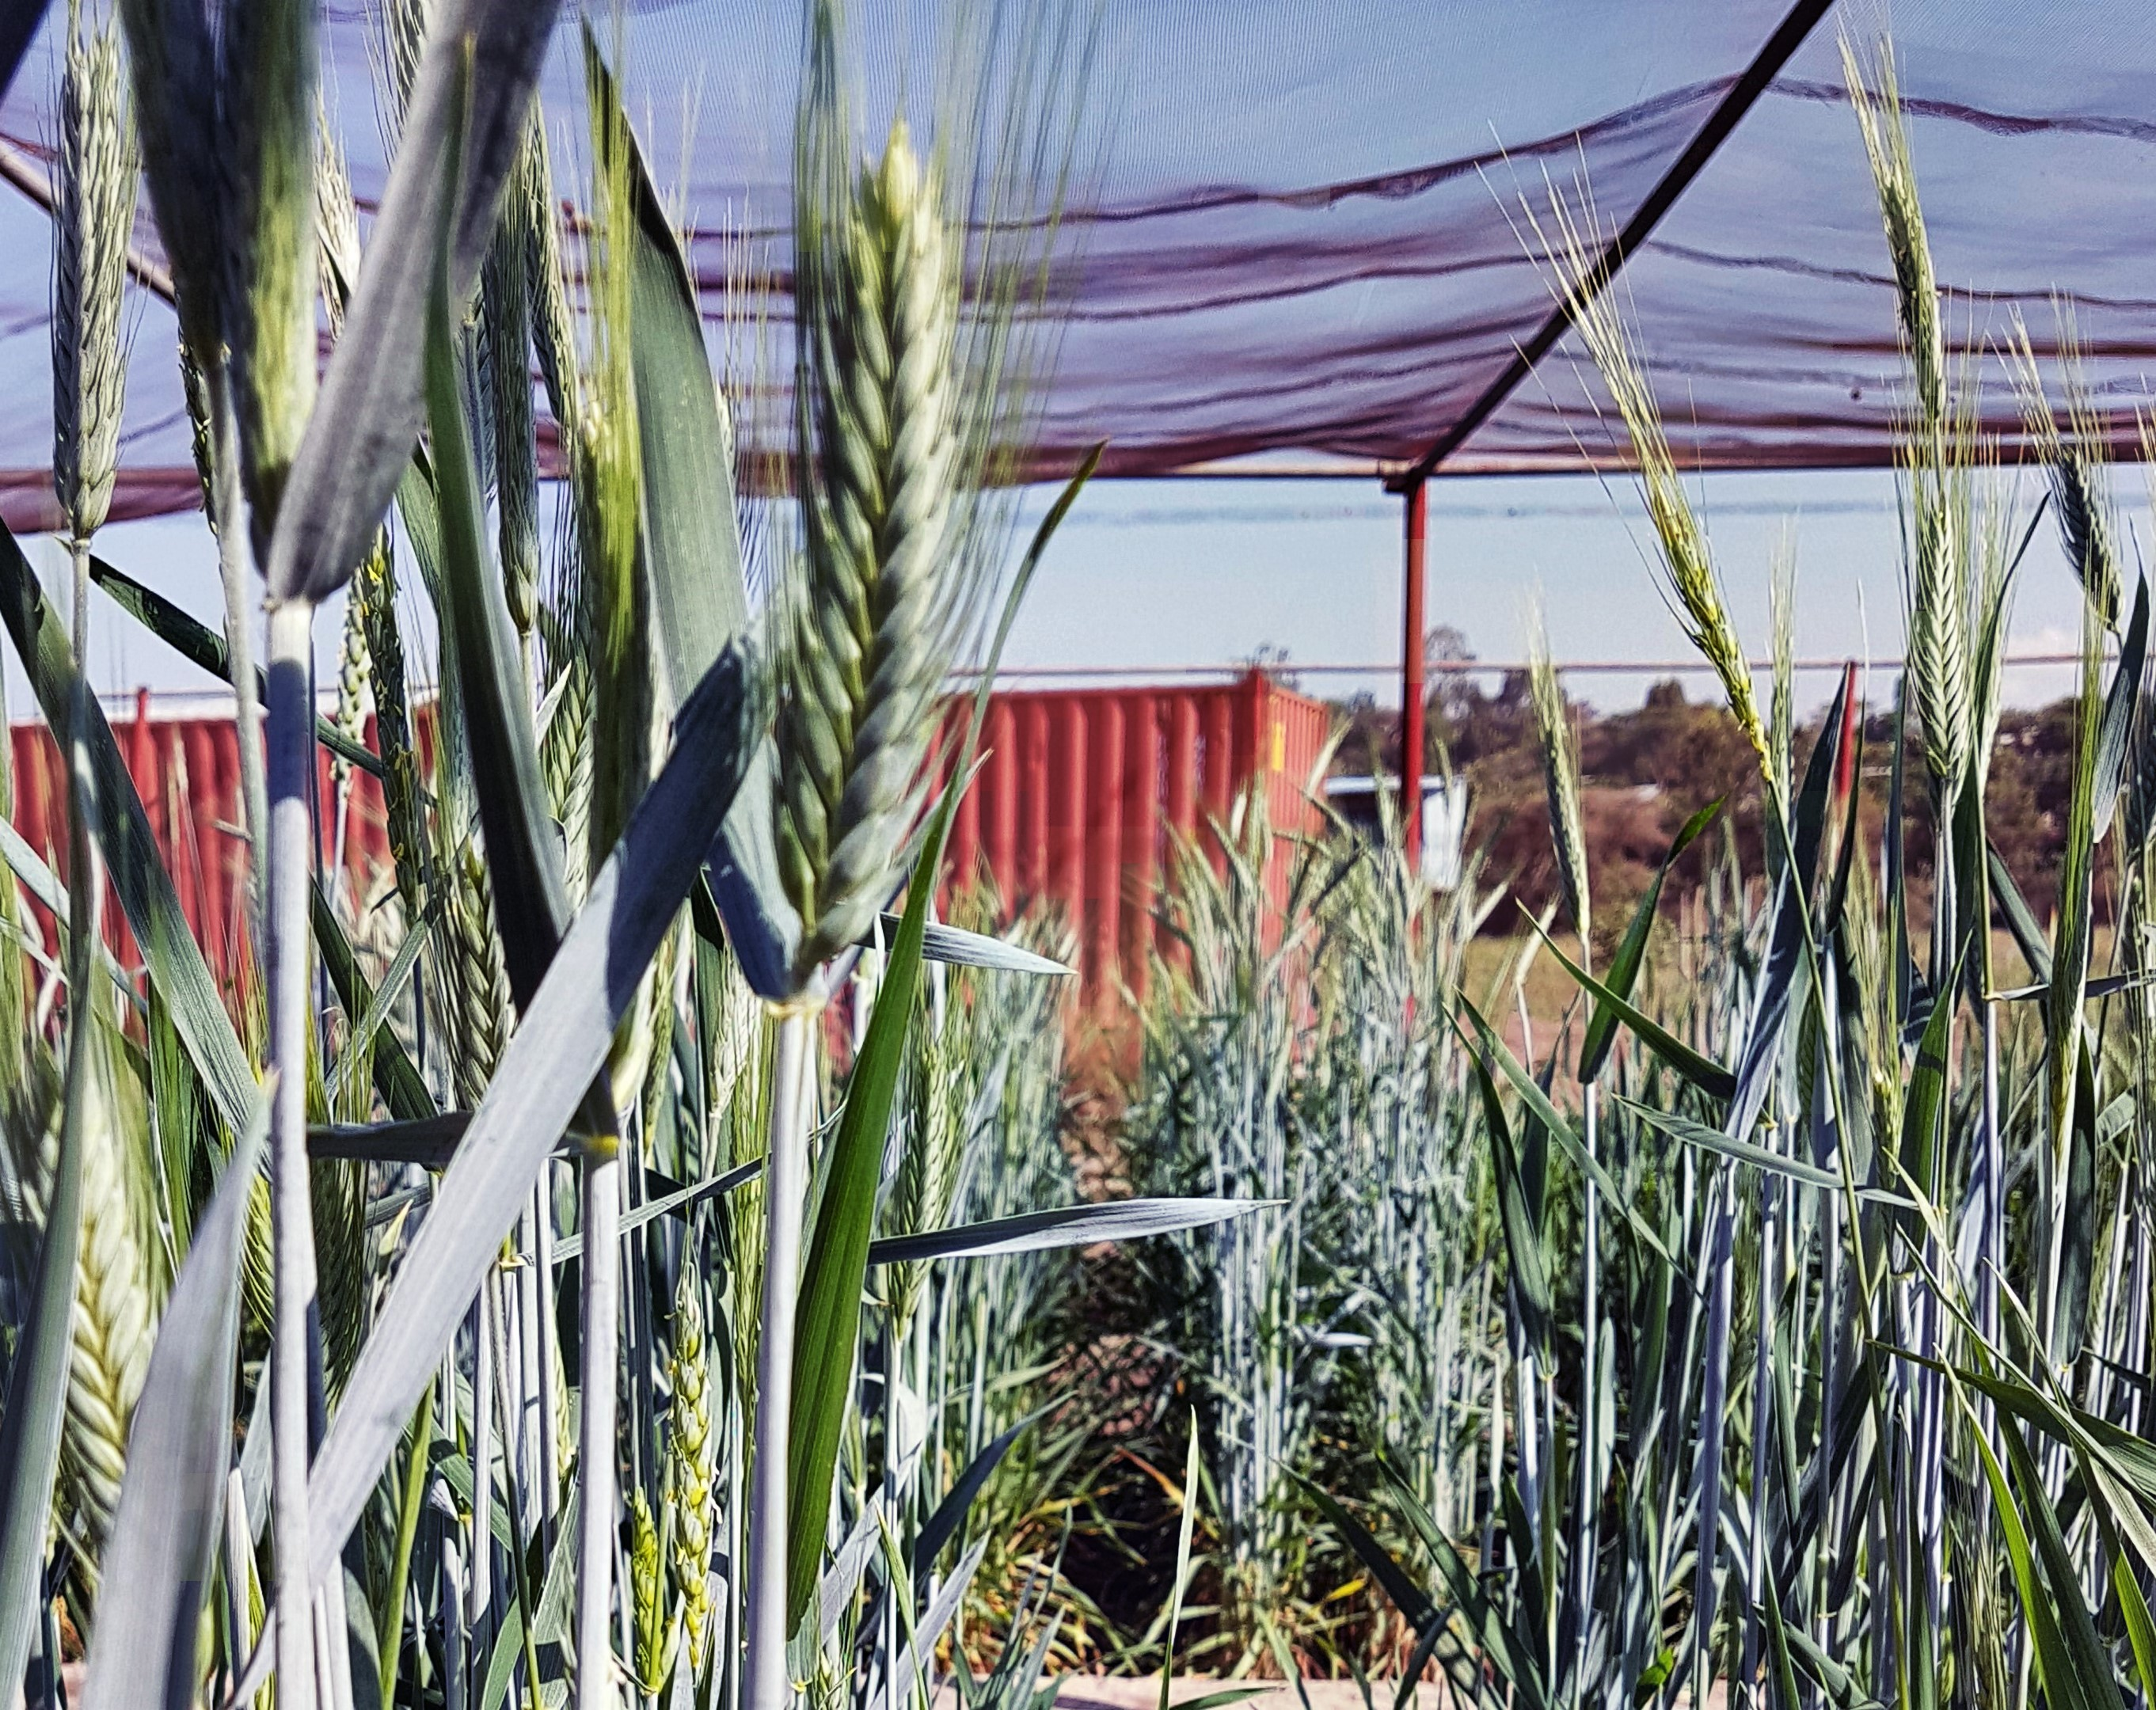Healthy Wheat: (18, 35, 147, 539), (1888, 494, 2009, 768)
